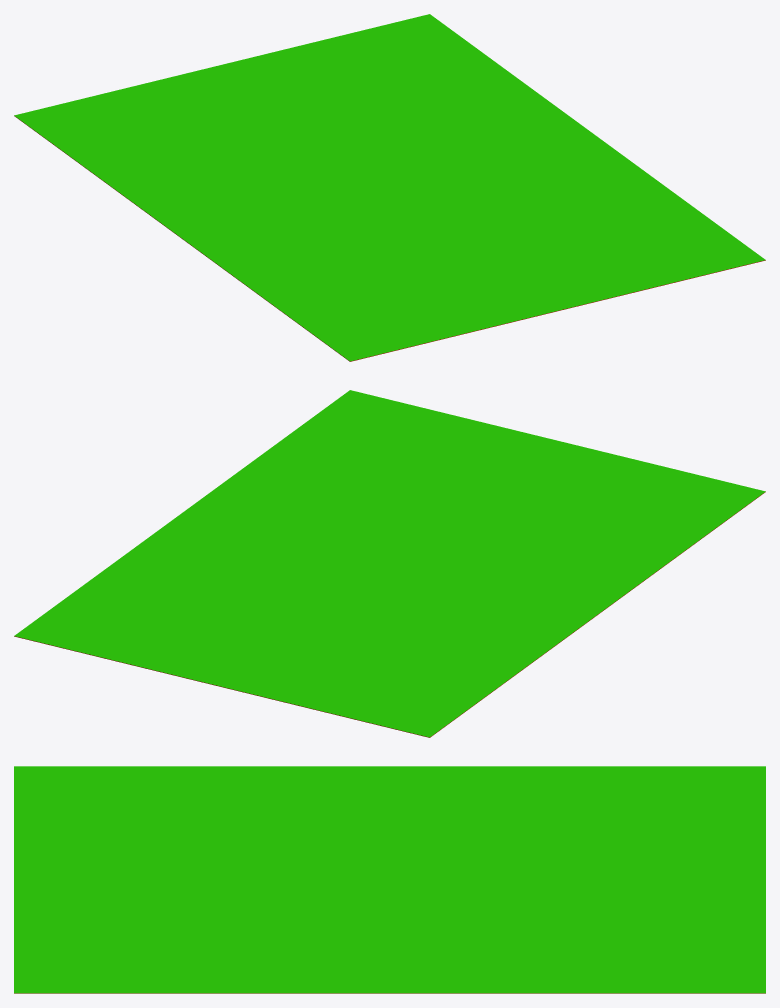
Rendered from newPage 1.fbx.
3 views of the same model, one above another, from view 1: azimuth 30°, elevation 25°; view 2: azimuth 150°, elevation 25°; view 3: azimuth 270°, elevation 25° (orthographic). The views are drawn at different scales.
Parts seen in each view (by area): view 1: Cube; view 2: Cube; view 3: Cube.
Boxes of the visible parts, x1,y1,x2,y2 form: Cube: (14, 14, 765, 361); Cube: (14, 390, 765, 737); Cube: (14, 766, 765, 993).
Size of the model in its own units: 1 by 0.001 by 1.4.
